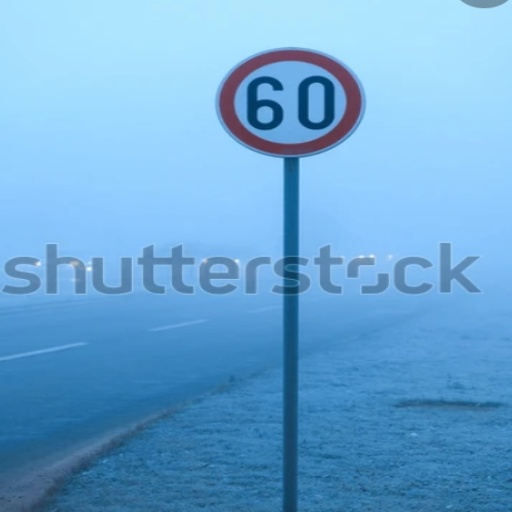Speed limit: (212, 41, 375, 167)
